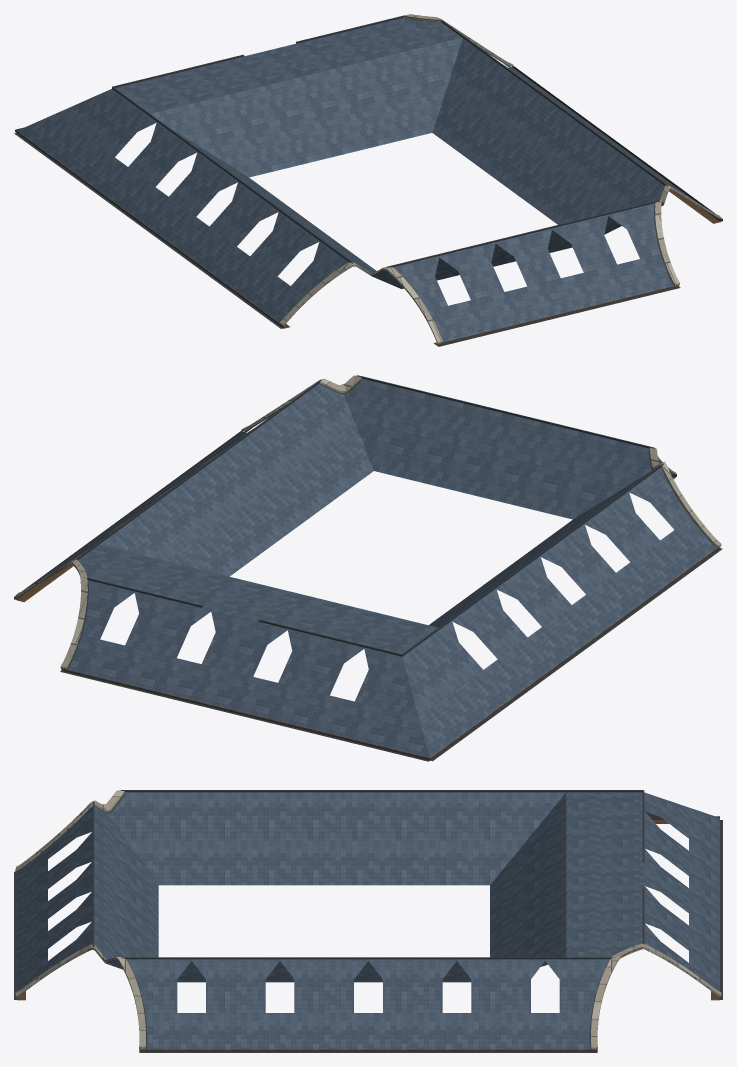
The model's file is Furn_DormRoof3_Main.fbx.
The picture shows the model from 3 angles, top to bottom: view 1: azimuth 30°, elevation 25°; view 2: azimuth 150°, elevation 25°; view 3: azimuth 270°, elevation 25°; orthographic projection. The views are drawn at different scales.
Visible parts, largest first — view 1: Furn_DormRoof3_Main; view 2: Furn_DormRoof3_Main; view 3: Furn_DormRoof3_Main.
Boxes of the visible parts, x1,y1,x2,y2 form: Furn_DormRoof3_Main: (14, 14, 722, 346); Furn_DormRoof3_Main: (14, 375, 722, 761); Furn_DormRoof3_Main: (14, 790, 722, 1052).
Size of the model in its own units: 25.08 by 3.15 by 32.08.
